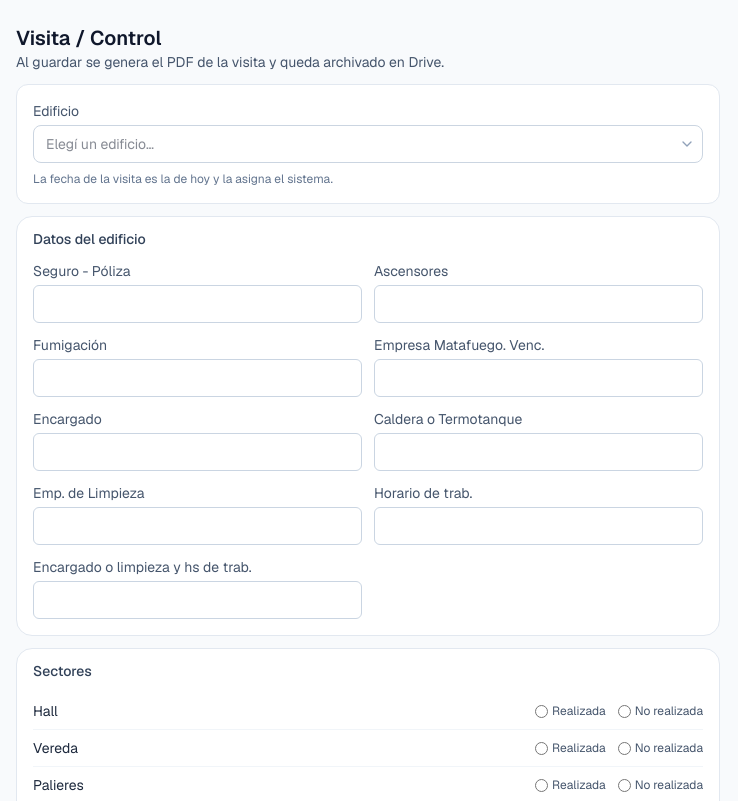
Test: VisitaForm › avisa si falla la generación del PDF
Click the dropdown labelled "Edificio" at point(368, 144), box [33, 125, 703, 163]
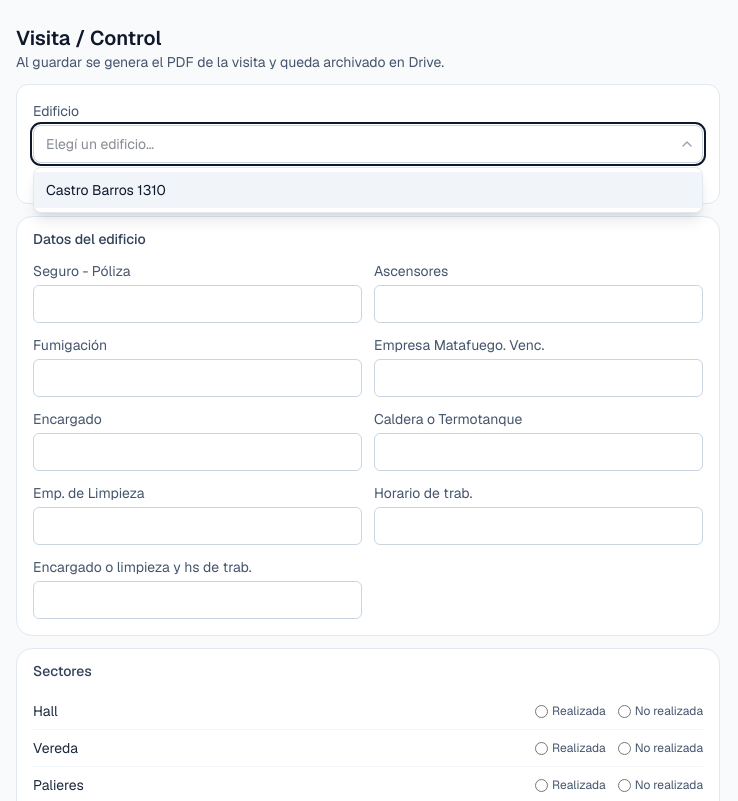
Click the option "Castro Barros 1310" at point(106, 190), box [34, 172, 702, 208]
(page scrolled)
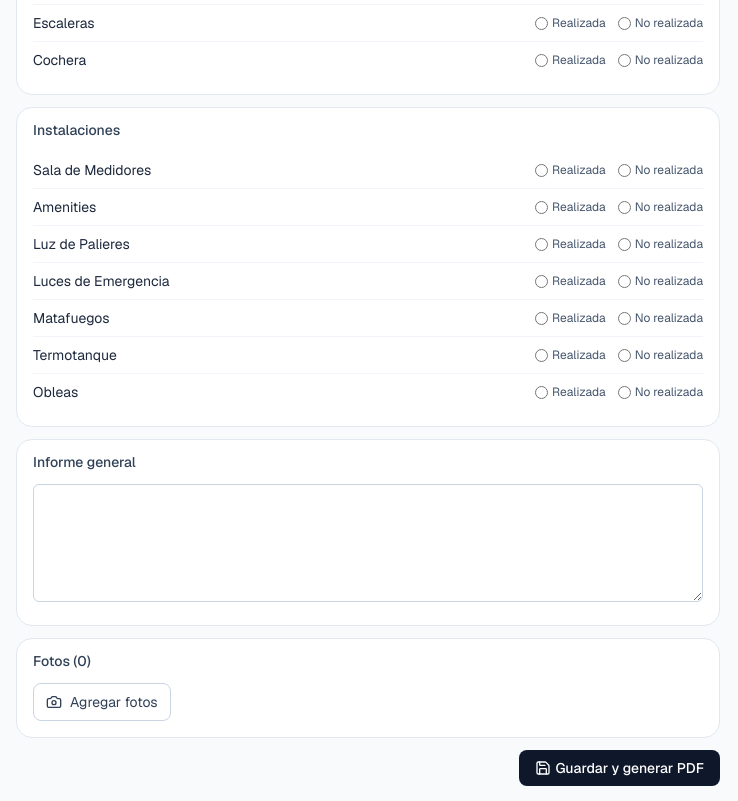
Click the button "Guardar y generar PDF" at point(620, 768), box [519, 750, 720, 786]
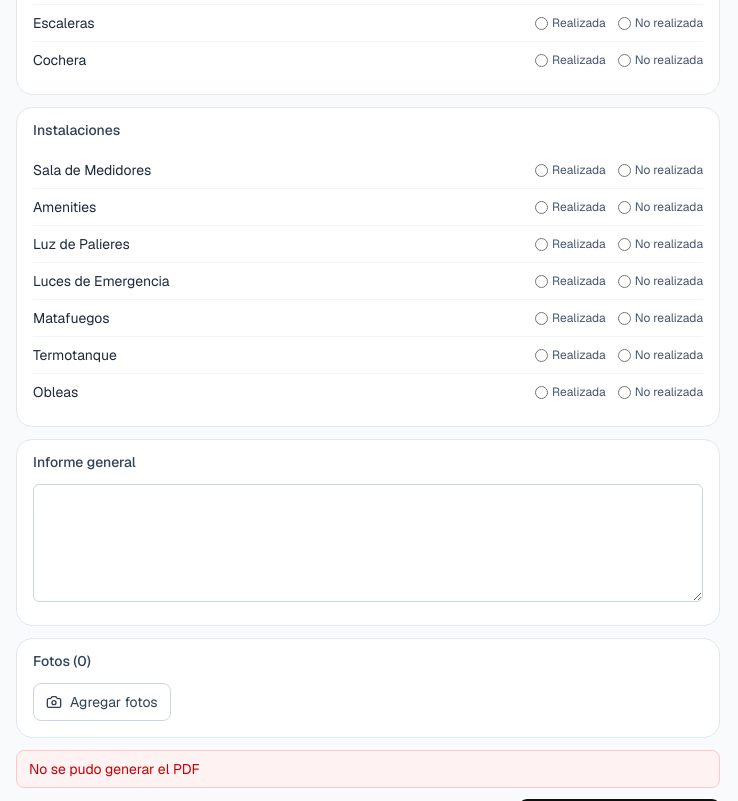
Result: the text "No se pudo generar el PDF" is shown at [16, 750, 720, 788]
